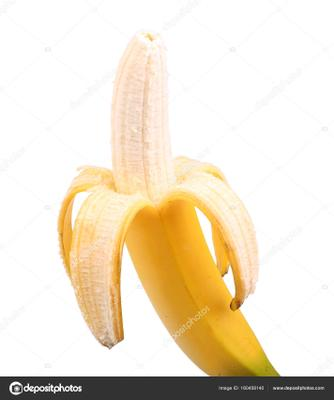banana: (0, 0, 334, 400)
